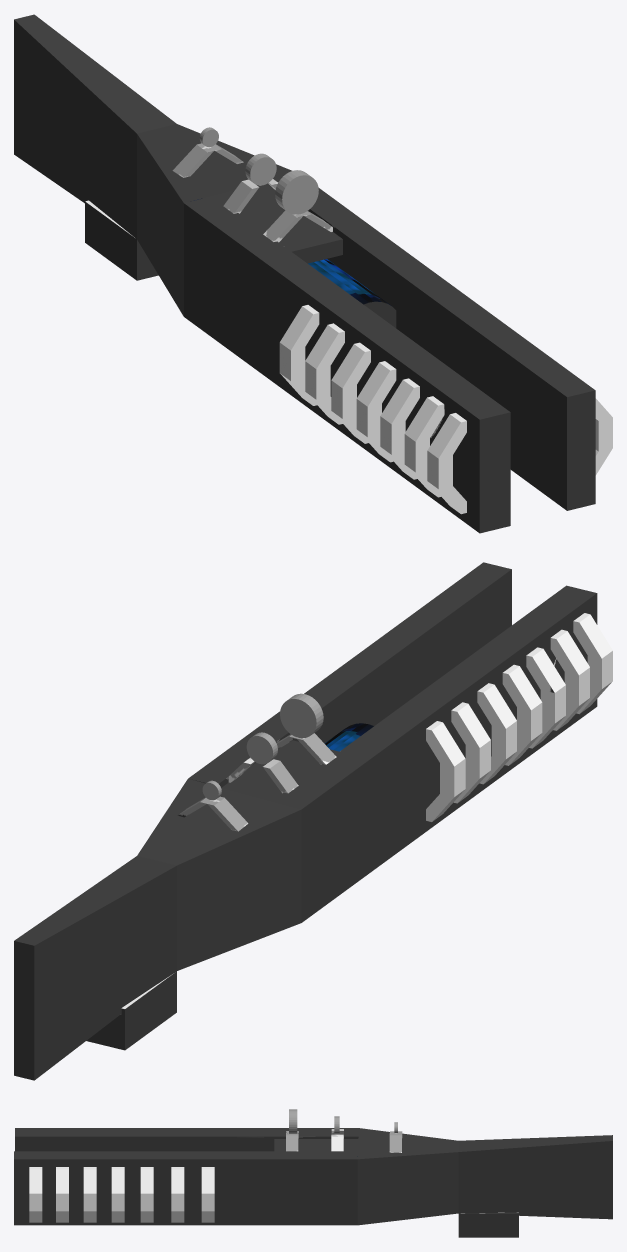
The model's file is Railgun.fbx.
The picture shows the model from 3 angles, top to bottom: view 1: azimuth 30°, elevation 25°; view 2: azimuth 150°, elevation 25°; view 3: azimuth 270°, elevation 25°; orthographic projection. The views are drawn at different scales.
Visible parts, largest first — view 1: Cube; view 2: Cube; view 3: Cube.
Boxes of the visible parts, x1,y1,x2,y2 form: Cube: (14,14,612,533); Cube: (14,562,612,1080); Cube: (14,1109,612,1237).
Bounding box in the file's own units: 261 × 298 × 1341.
